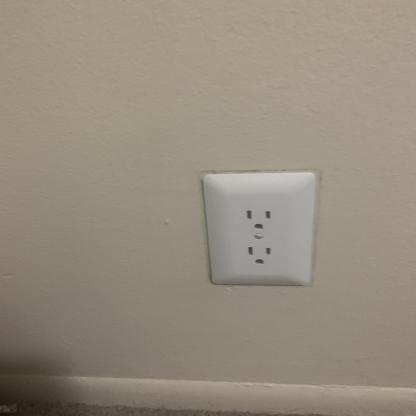OUTLET: (202, 173, 314, 287)
